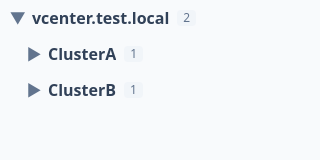
InventoryTree (INV-01 — flatten-visible + lazy children) › chevron toggles aria-expanded
Click the button named "ClusterA" at (34, 54), box left=24, top=44, right=44, bottom=64
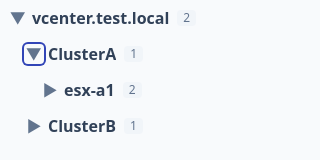
Expected: the button named "ClusterA" is expanded, left=24, top=44, right=44, bottom=64
